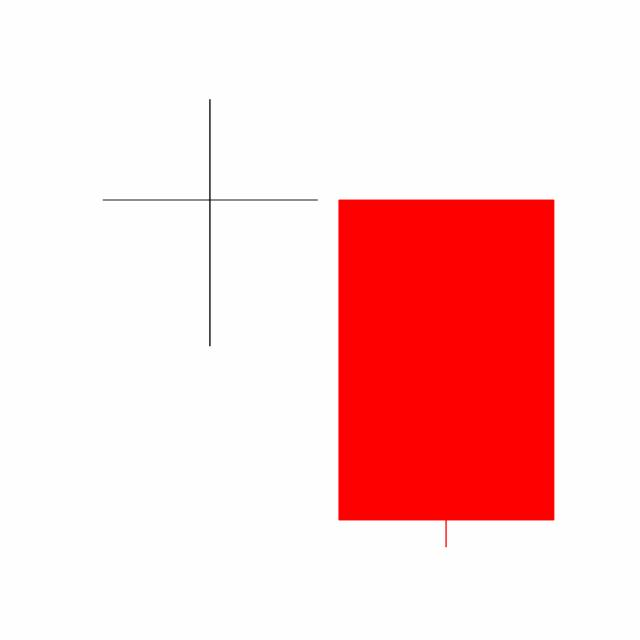Marubozu: (327, 195, 565, 550)
